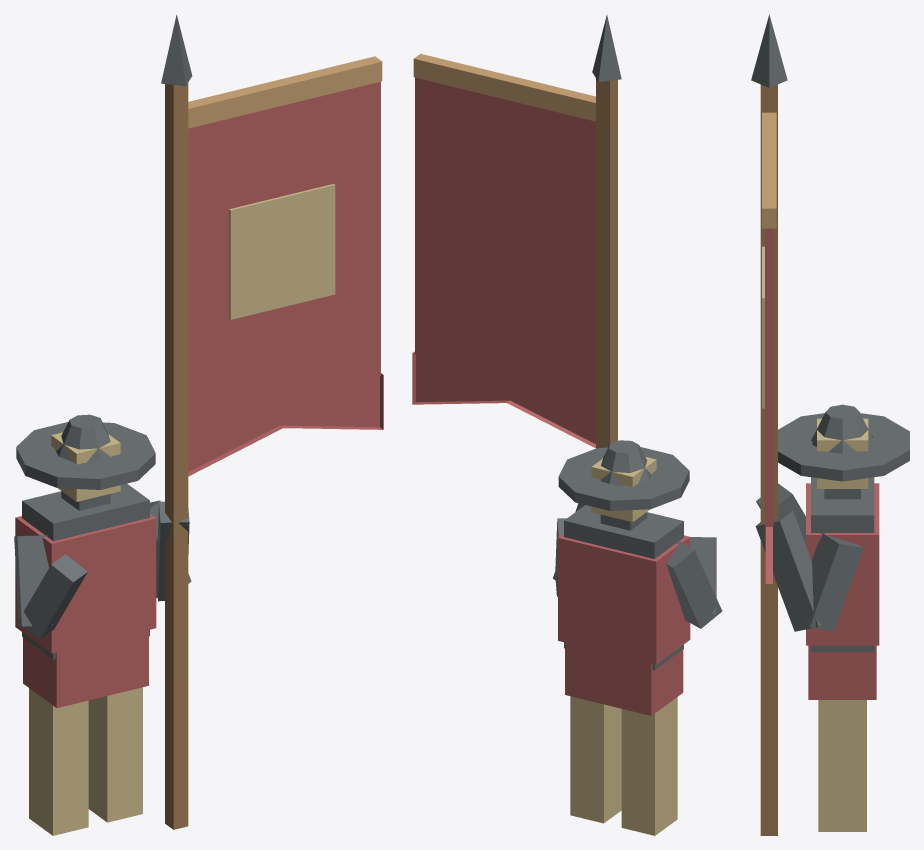
Rendered from banner-bearer-red.glb.
The picture shows the model from 3 angles, left to right: view 1: azimuth 30°, elevation 25°; view 2: azimuth 150°, elevation 25°; view 3: azimuth 270°, elevation 25°; orthographic projection. The views are drawn at different scales.
Parts seen in each view (by area): view 1: banner-bearer-red; view 2: banner-bearer-red; view 3: banner-bearer-red.
Boxes of the visible parts, x1,y1,x2,y2 form: banner-bearer-red: [14, 15, 383, 835]; banner-bearer-red: [412, 15, 722, 835]; banner-bearer-red: [751, 14, 909, 835].
Bounding box in the file's own units: 1.64 × 3.72 × 0.6507.
